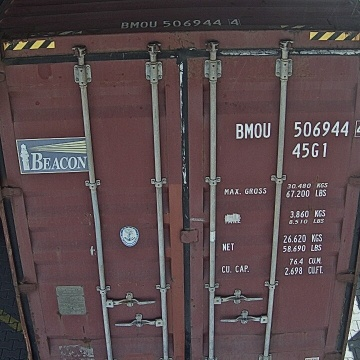serial_id: (236, 120, 360, 138)
